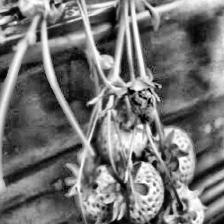Gray Mold: (126, 69, 162, 125)
